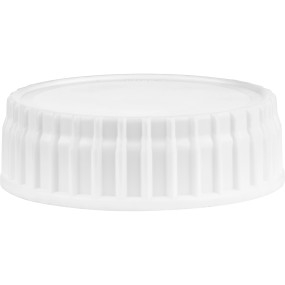PlasticCap: (3, 74, 285, 211)
